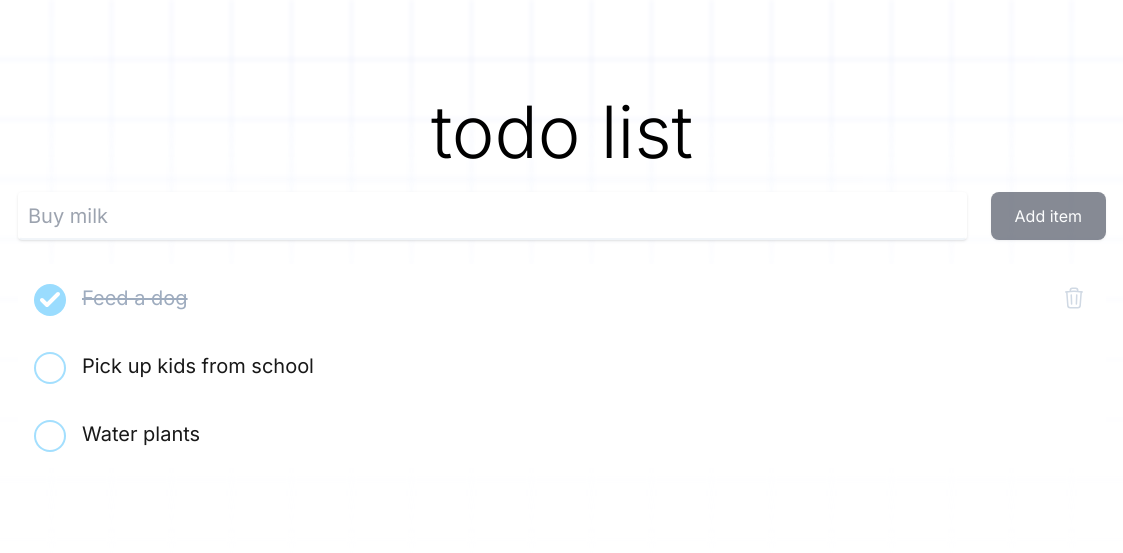
it: should append new item at the end of the list by clicking the button
Type "new item" into the field with test id "input" at (492, 216), box [18, 192, 967, 240]
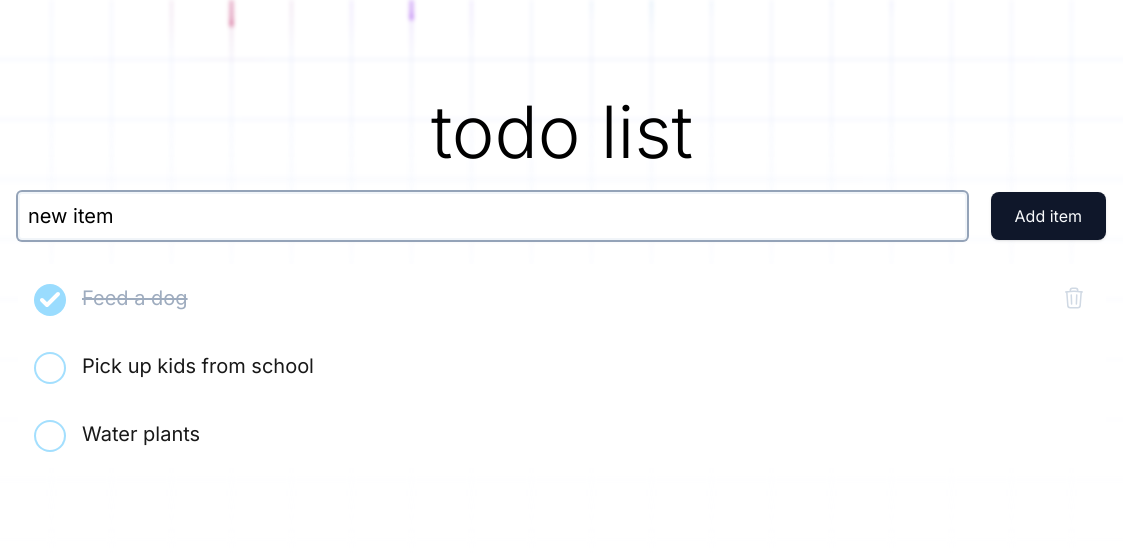
Click the button with test id "button" at (1048, 216), box [991, 192, 1106, 240]
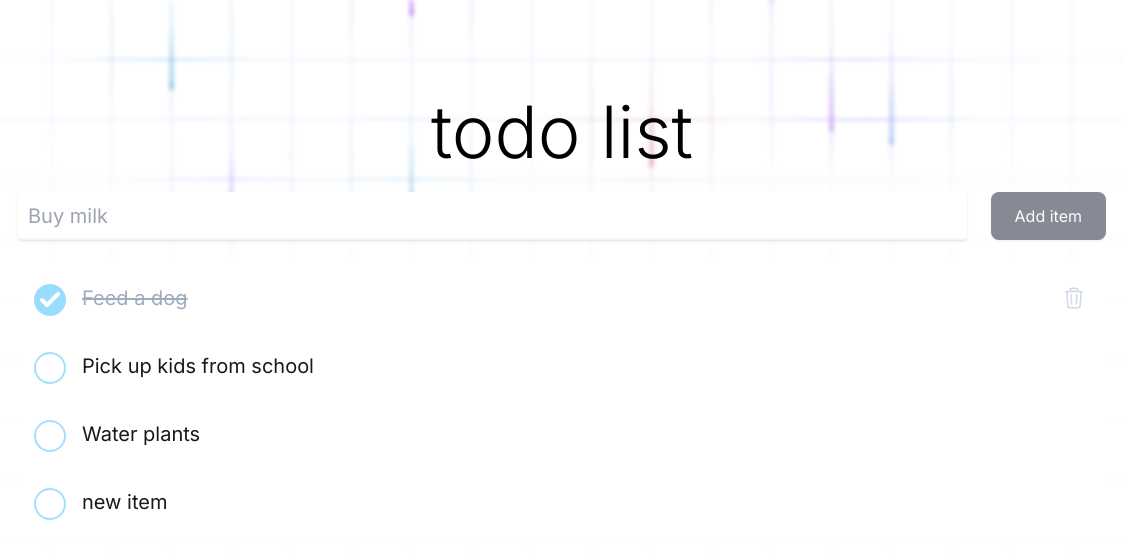
Now the list item "new item" is shown, box [18, 468, 1106, 536]
